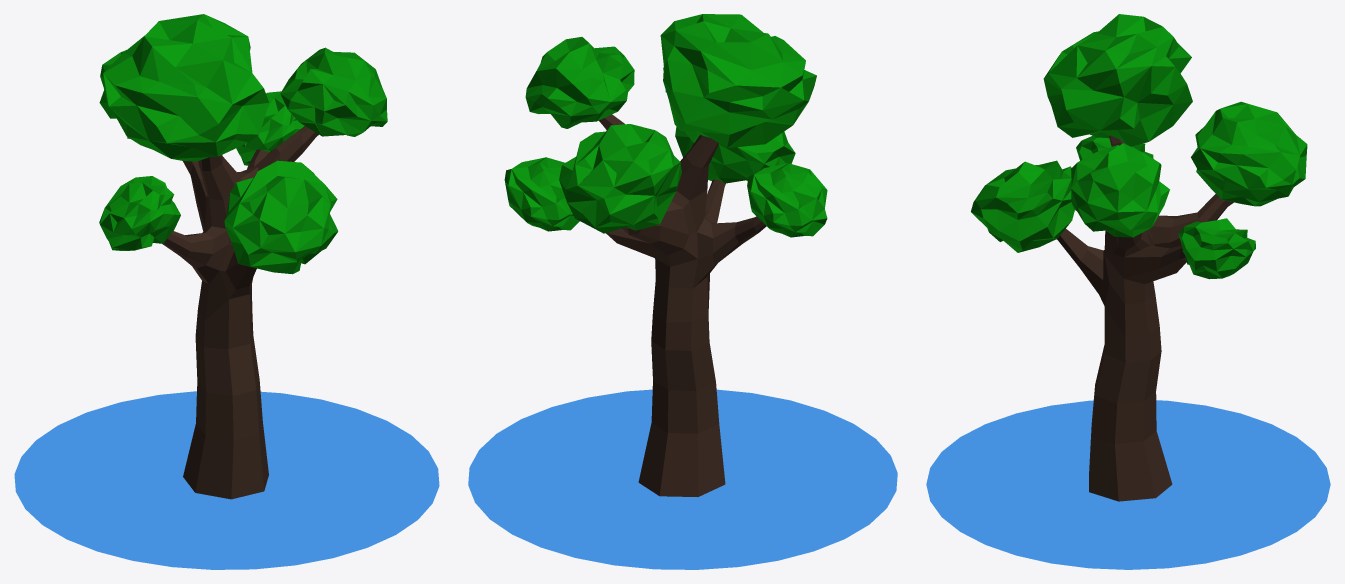
The model's file is TreeRot.fbx.
3 renders of one model, left to right at view 1: azimuth 30°, elevation 25°; view 2: azimuth 150°, elevation 25°; view 3: azimuth 270°, elevation 25°, orthographic. The views are drawn at different scales.
Parts seen in each view (by area): view 1: Tree; view 2: Tree; view 3: Tree.
Part boxes in pixels (x1,y1,x2,y2): Tree: [14, 14, 439, 569]; Tree: [468, 14, 897, 569]; Tree: [926, 14, 1330, 569].
Bounding box in the file's own units: 586 × 702 × 586.
